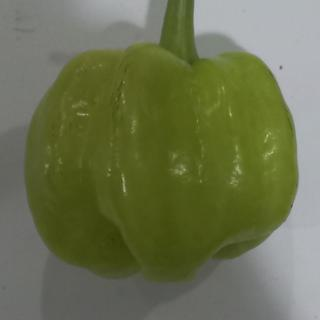Grade-B: (20, 38, 306, 279)
